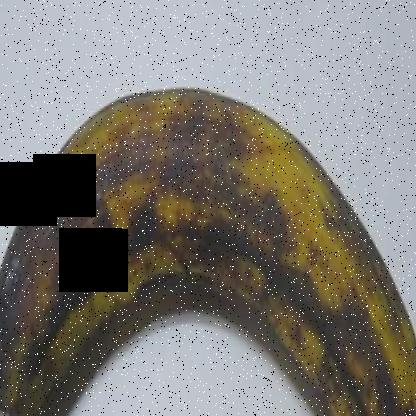overripe: (0, 78, 415, 415)
